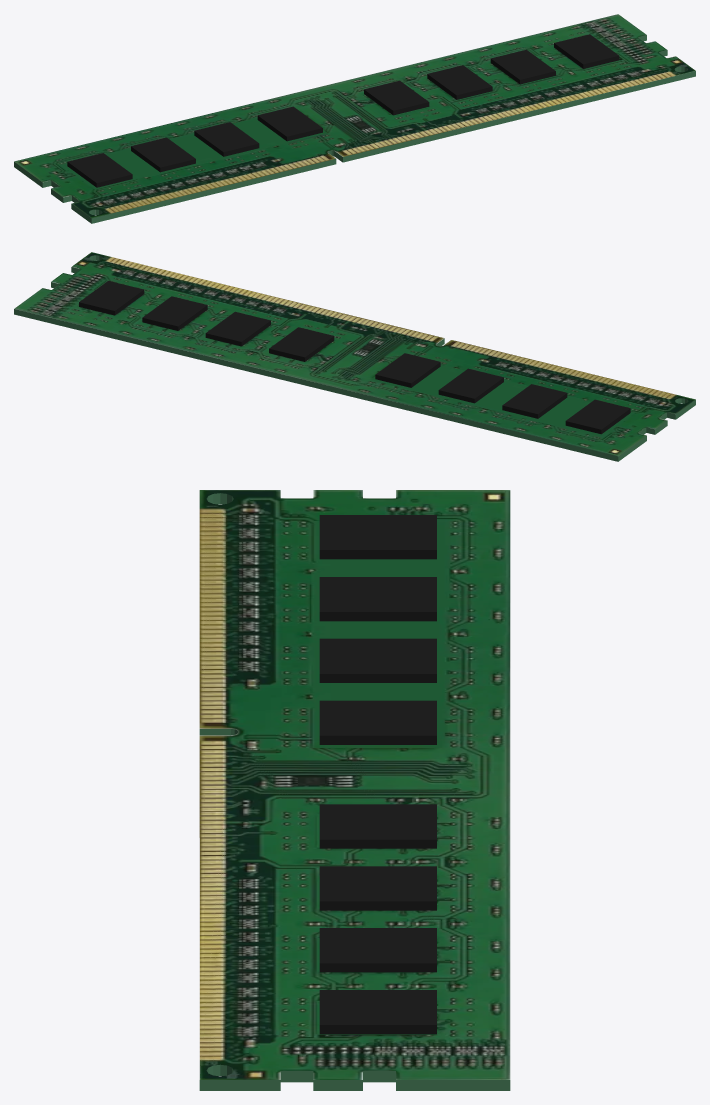
Rendered from ddr3_ram.glb.
3 renders of one model, top to bottom at view 1: azimuth 30°, elevation 25°; view 2: azimuth 150°, elevation 25°; view 3: azimuth 270°, elevation 25°, orthographic. The views are drawn at different scales.
Visible parts, largest first — view 1: Object_2; view 2: Object_2; view 3: Object_2.
Part boxes in pixels (left/top/right/bottom): Object_2: left=14, top=14, right=695, bottom=223; Object_2: left=14, top=252, right=695, bottom=461; Object_2: left=199, top=490, right=510, bottom=1090.
Size of the model in its own units: 6.95 by 0.112 by 1.55.
1 material, 1 textured.
